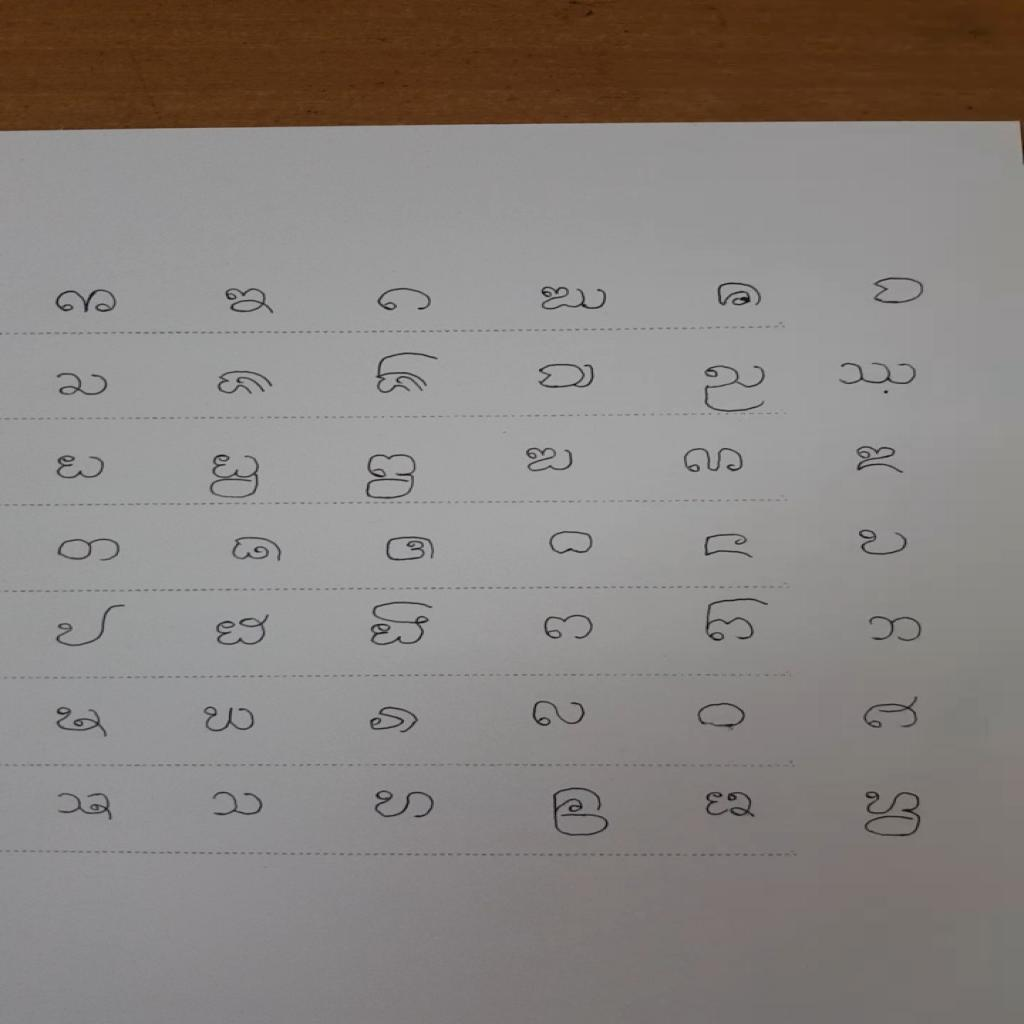LN001: (47, 283, 128, 321)
LN002: (213, 283, 282, 321)
LN003: (371, 283, 440, 318)
LN004: (533, 282, 613, 315)
LN005: (711, 279, 767, 313)
LN006: (867, 274, 932, 309)
LN007: (51, 370, 117, 401)
LN008: (211, 367, 279, 400)
LN009: (370, 350, 444, 399)
LN010: (534, 361, 599, 393)
LN011: (699, 361, 774, 415)
LN012: (832, 358, 923, 390)
LN013: (53, 451, 111, 483)
LN014: (206, 451, 265, 501)
LN015: (361, 451, 421, 502)
LN016: (520, 444, 580, 476)
LN017: (680, 443, 749, 477)
LN018: (851, 441, 910, 480)
LN019: (54, 535, 126, 565)
LN020: (230, 534, 287, 566)
LN021: (380, 533, 442, 566)
LN022: (547, 528, 598, 559)
LN023: (700, 531, 760, 562)
LN024: (853, 525, 915, 560)
LN025: (50, 602, 130, 652)
LN026: (211, 610, 276, 652)
LN027: (365, 599, 438, 652)
LN028: (540, 612, 598, 644)
LN029: (699, 595, 776, 647)
LN030: (864, 613, 927, 646)
LN031: (49, 704, 116, 742)
LN032: (197, 703, 262, 737)
LN033: (365, 703, 424, 738)
LN034: (528, 696, 593, 731)
LN035: (694, 700, 754, 733)
LN036: (859, 694, 926, 734)
LN037: (50, 788, 121, 825)
LN038: (206, 786, 271, 823)
LN039: (369, 785, 441, 824)
LN040: (547, 783, 615, 841)
LN041: (701, 786, 761, 823)
LN042: (860, 787, 928, 842)
